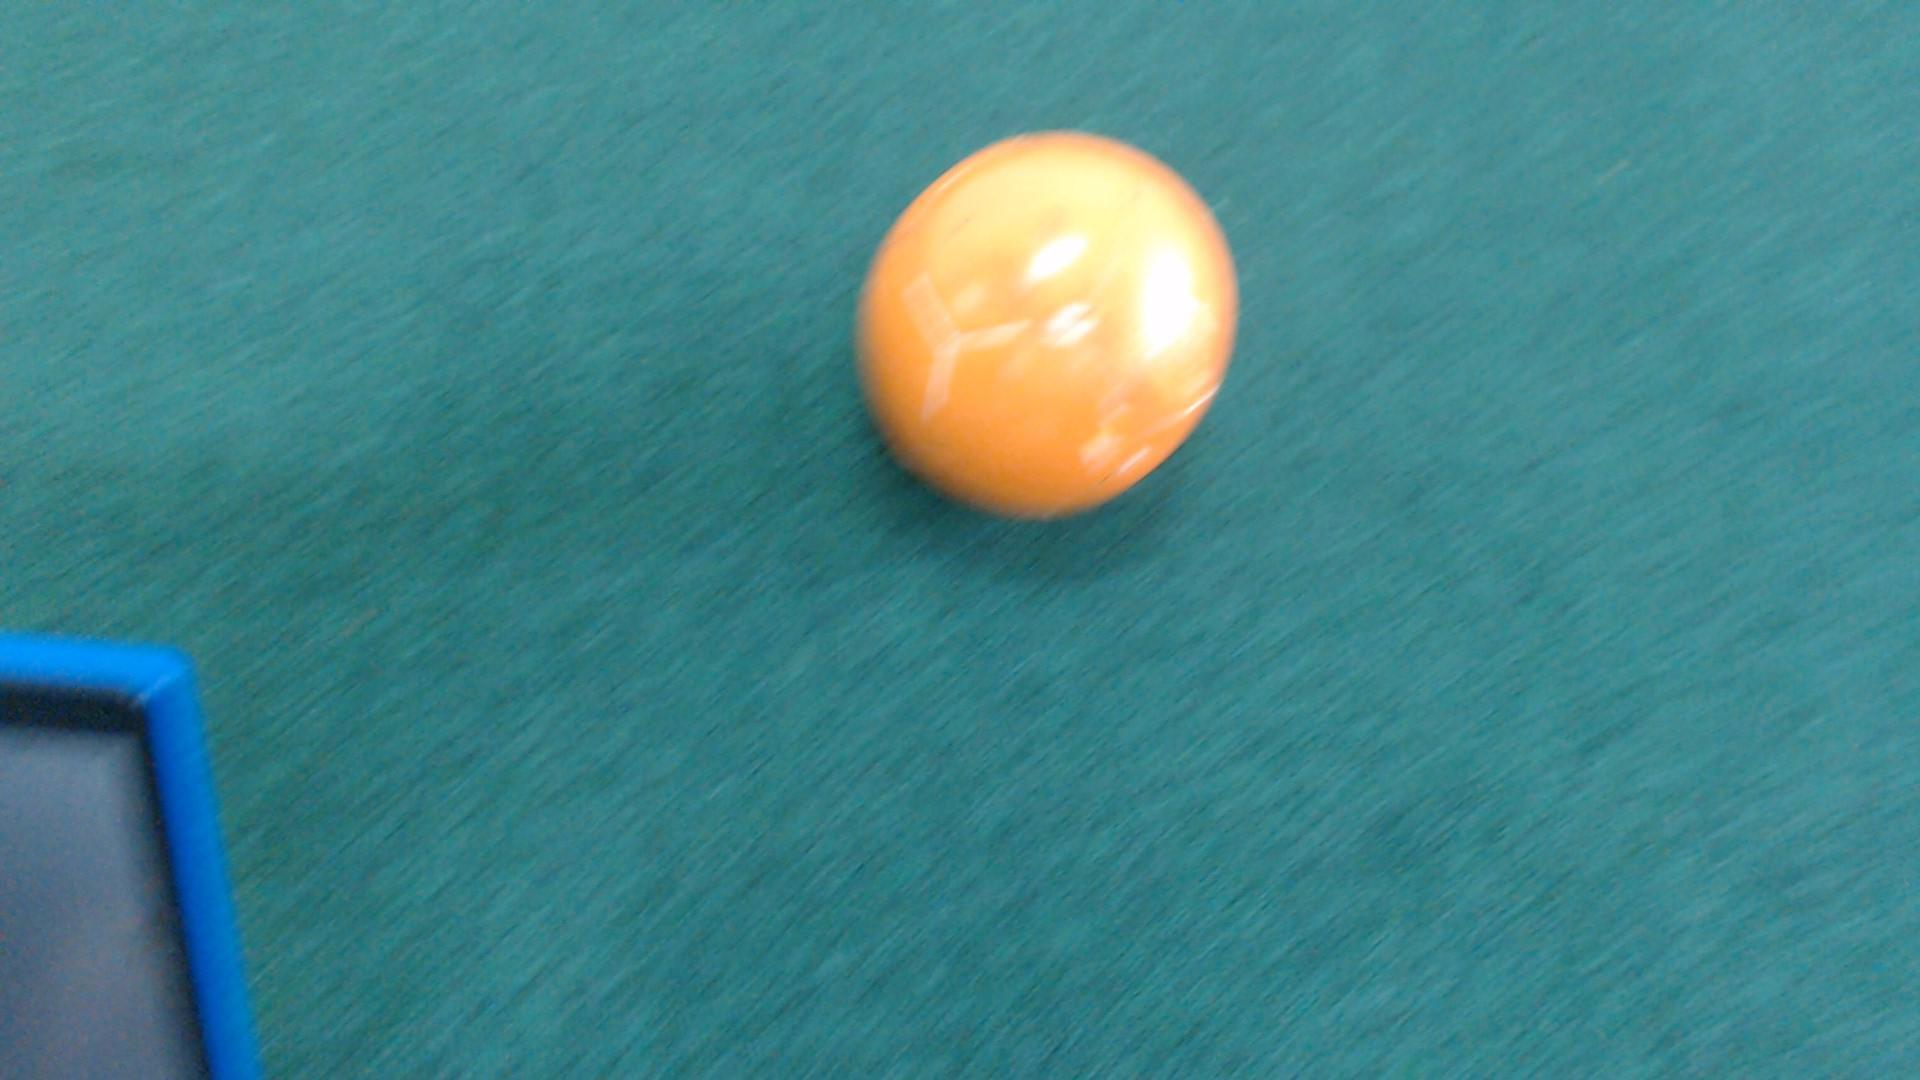bola: (802, 109, 1262, 533)
